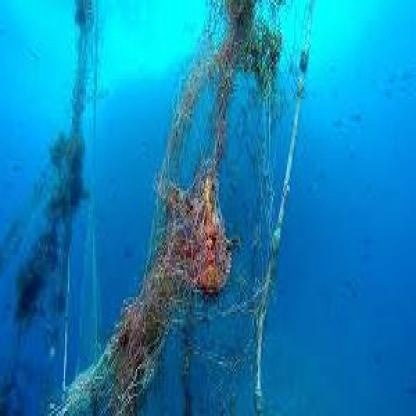net: (78, 2, 308, 414)
